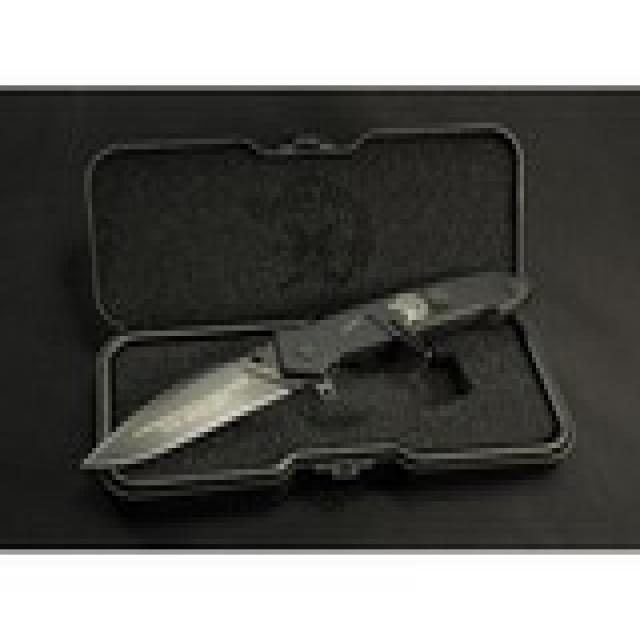Knife: (65, 272, 542, 474)
